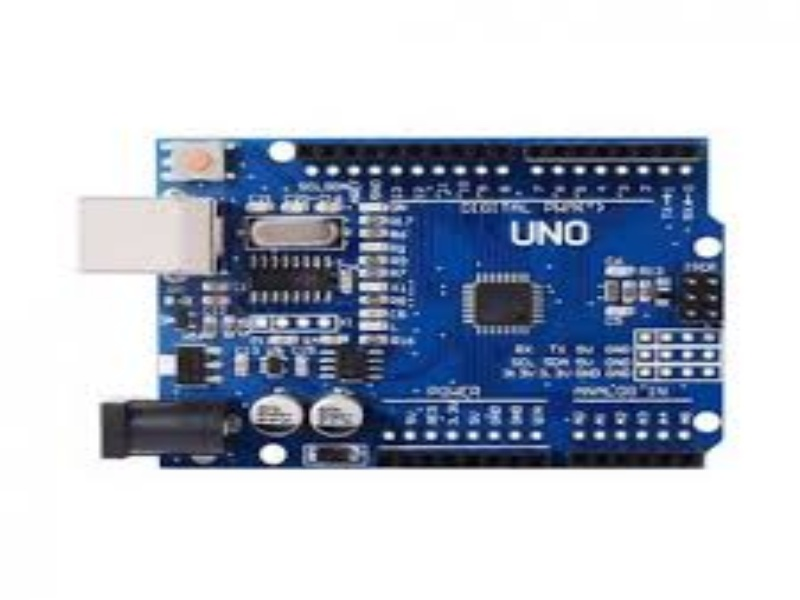uno: (64, 104, 760, 493)
